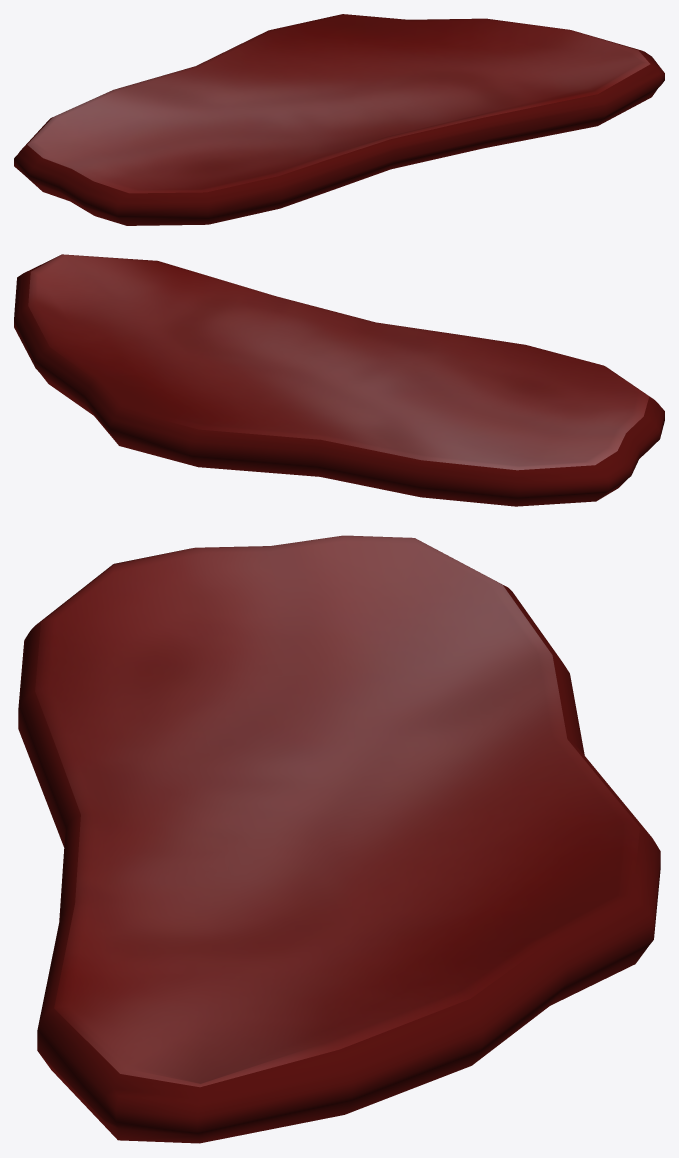
File: MeatFive.fbx
3 views of the same model, one above another, from view 1: azimuth 30°, elevation 25°; view 2: azimuth 150°, elevation 25°; view 3: azimuth 270°, elevation 25° (orthographic). The views are drawn at different scales.
Visible parts, largest first — view 1: MeatFive; view 2: MeatFive; view 3: MeatFive.
Boxes of the visible parts, x1=… form: MeatFive: x1=14, y1=14, x2=664, y2=225; MeatFive: x1=14, y1=254, x2=664, y2=506; MeatFive: x1=18, y1=535, x2=660, y2=1143.
Bounding box in the file's own units: 95.25 × 5.45 × 45.28.
